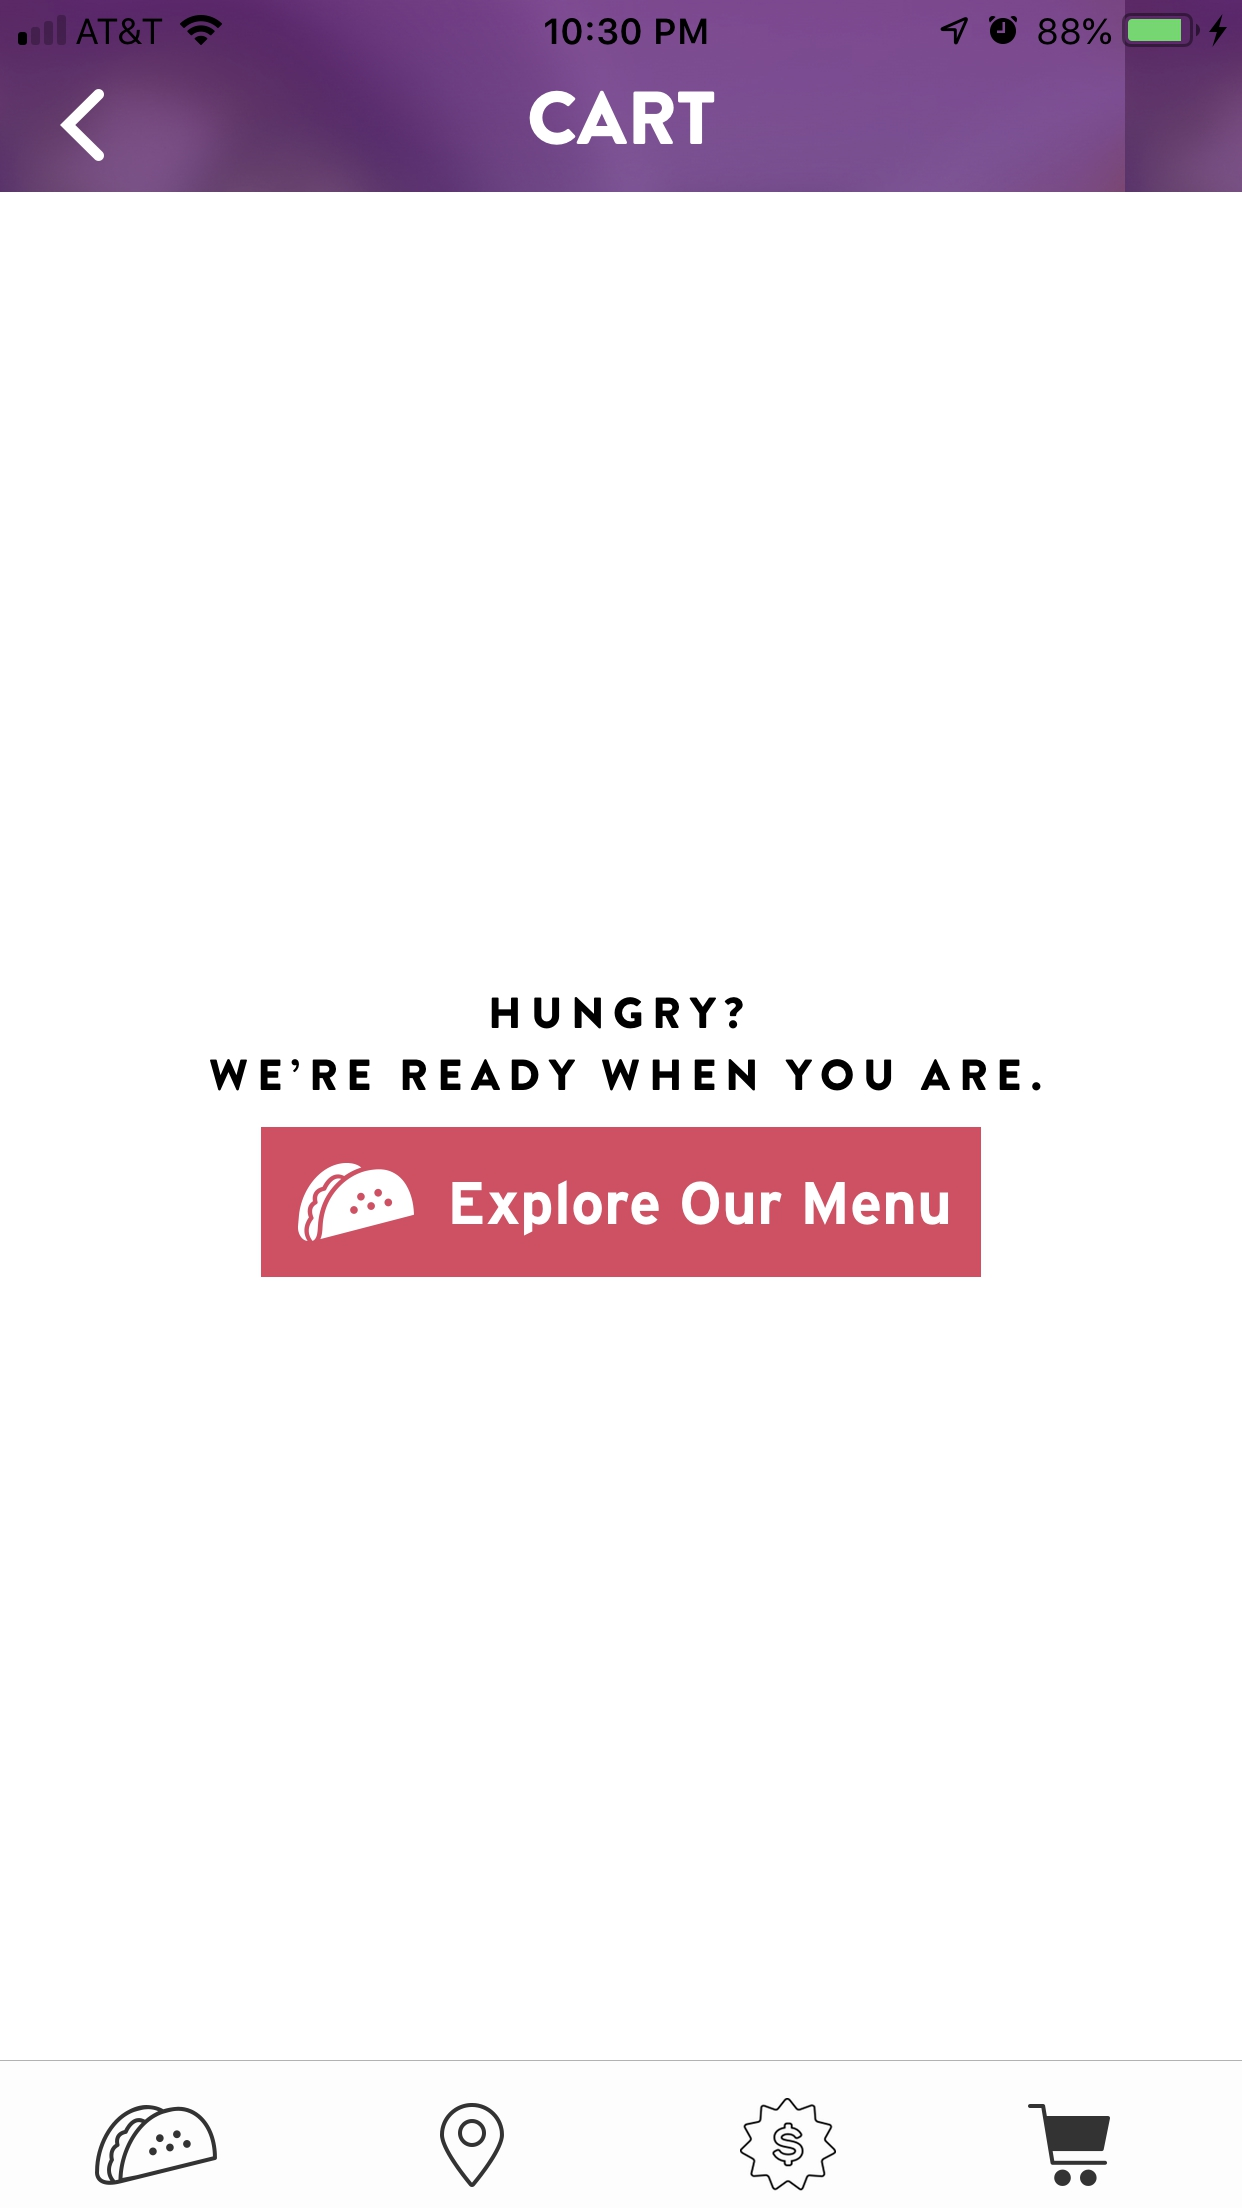Icon: (740, 2097, 837, 2191), (1027, 2103, 1112, 2187), (440, 2102, 507, 2188), (61, 89, 106, 162)
Image: (94, 2103, 218, 2185)
Text: (209, 1059, 1042, 1092), (529, 89, 716, 147), (490, 996, 745, 1030)
TextButton: (262, 1127, 983, 1278)
UpperTaskBar: (2, 2, 1242, 49)
